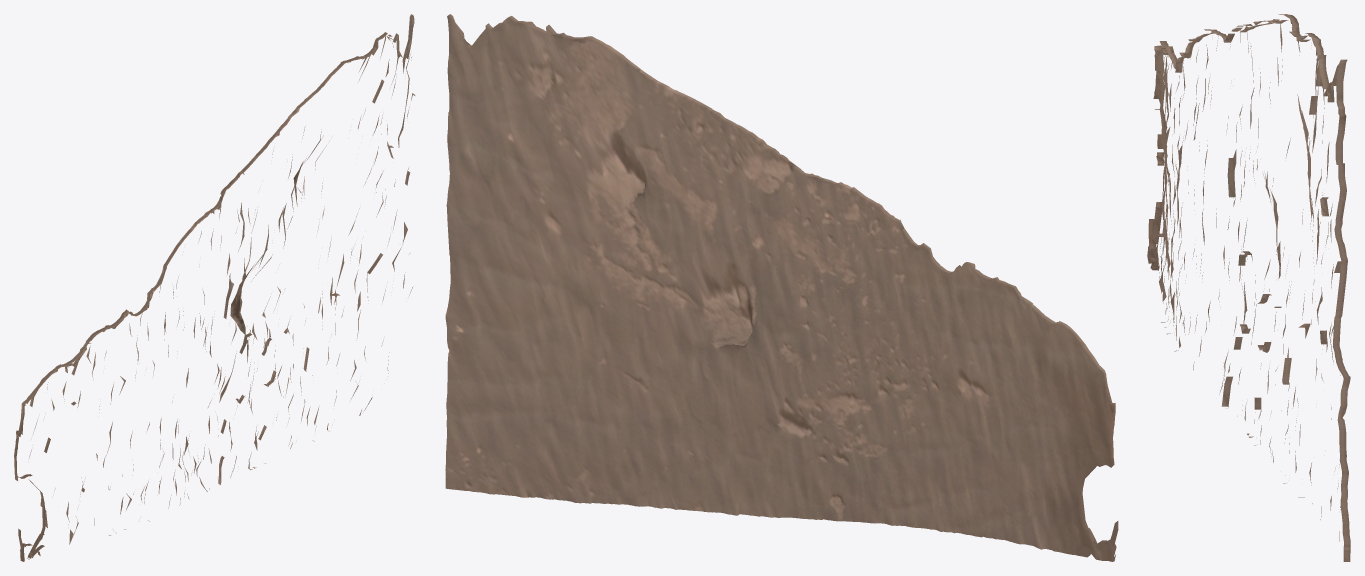
3 renders of one model, left to right at view 1: azimuth 30°, elevation 25°; view 2: azimuth 150°, elevation 25°; view 3: azimuth 270°, elevation 25°, orthographic. The views are drawn at different scales.
Size of the model in its own units: 1.04 by 0.8141 by 0.2989.
1 material, 1 textured.
